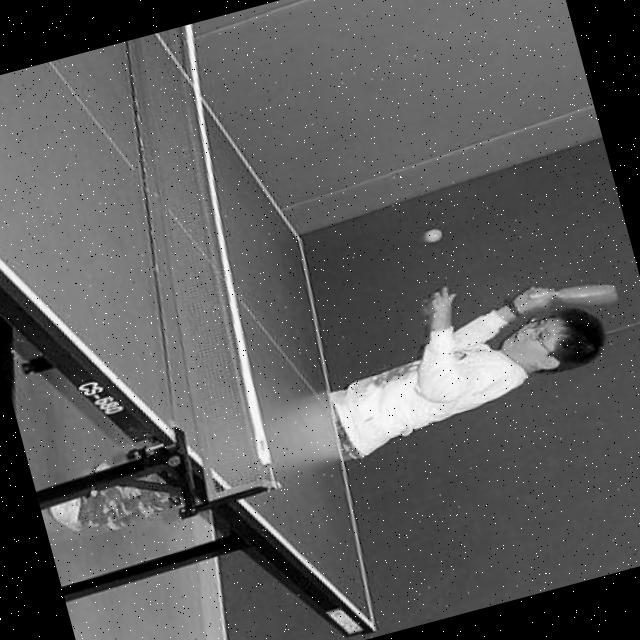ping-pong-ball: (418, 226, 444, 247)
